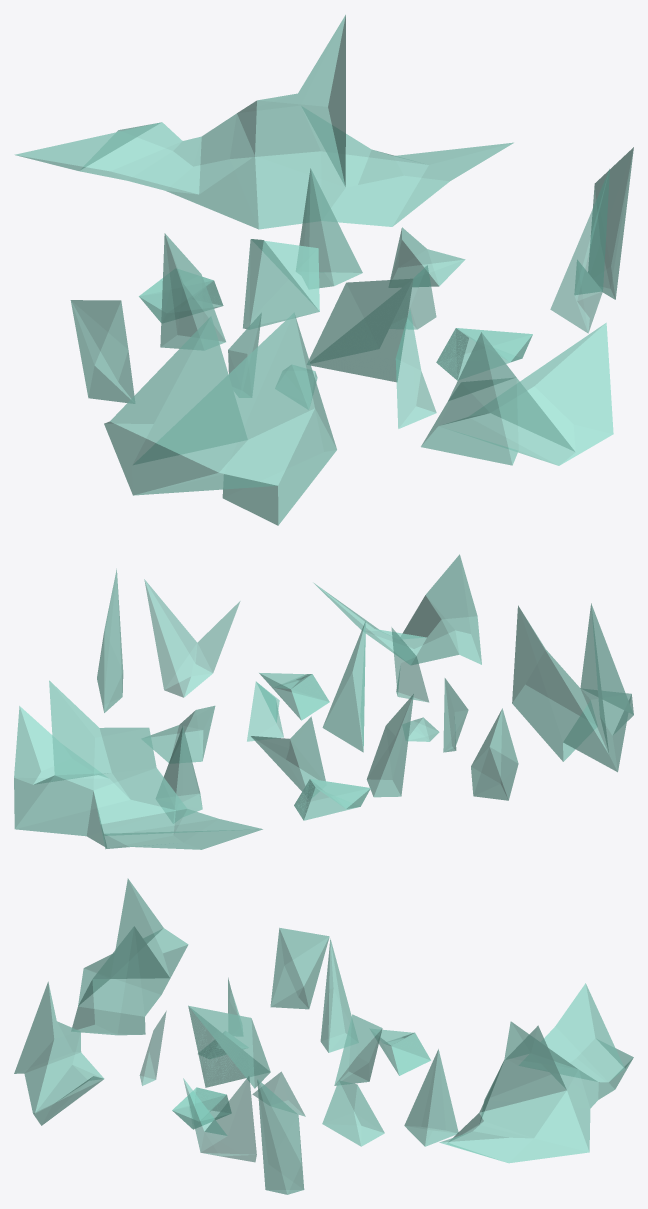
The model's file is glass_spikes 1.fbx.
The picture shows the model from 3 angles, top to bottom: view 1: azimuth 30°, elevation 25°; view 2: azimuth 150°, elevation 25°; view 3: azimuth 270°, elevation 25°; orthographic projection. The views are drawn at different scales.
Parts seen in each view (by area): view 1: Cube.002, Cube.007, Cube, Cube.001; view 2: Cube.007, Cube, Cube.002, Cube.001; view 3: Cube.007, Cube, Cube.002, Cube.001.
Boxes of the visible parts, box(x1,y1,x2,y2) form: Cube.002: box(104, 312, 613, 525); Cube.007: box(70, 169, 609, 409); Cube: box(14, 14, 513, 229); Cube.001: box(296, 147, 633, 428); Cube.007: box(142, 579, 518, 820); Cube: box(14, 680, 262, 849); Cube.002: box(313, 554, 633, 772); Cube.001: box(97, 568, 428, 823); Cube.007: box(172, 927, 430, 1162); Cube: box(439, 983, 633, 1163); Cube.002: box(14, 878, 188, 1125); Cube.001: box(139, 1011, 458, 1194).
Bounding box in the file's own units: 844 × 274 × 1023.
